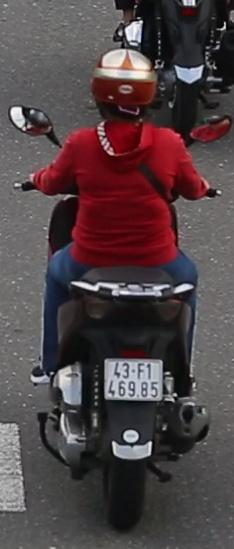LP: (102, 353, 165, 403)
helmet: (90, 43, 161, 132)
